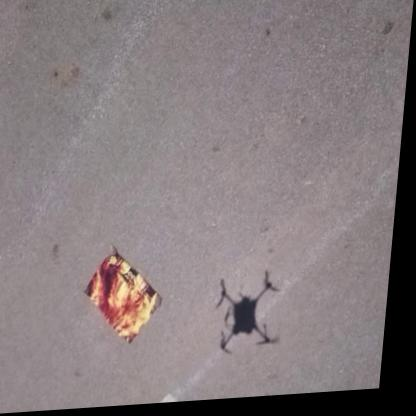fire-poster: (85, 243, 174, 351)
